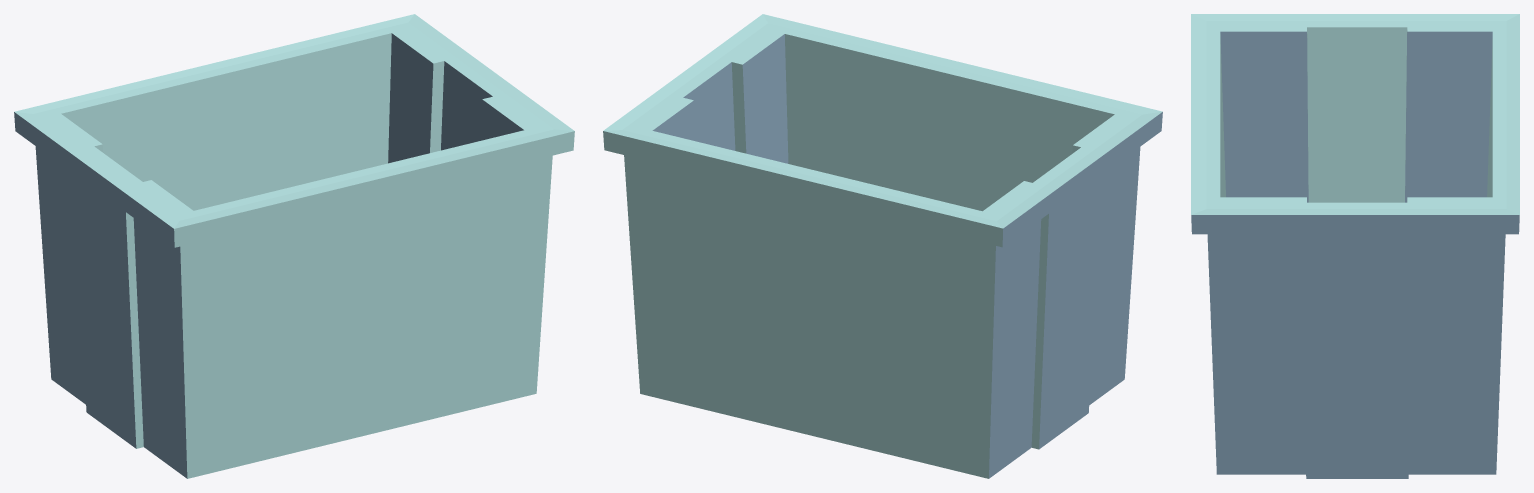
File: Recycle Bin.fbx
The picture shows the model from 3 angles, left to right: view 1: azimuth 30°, elevation 25°; view 2: azimuth 150°, elevation 25°; view 3: azimuth 270°, elevation 25°; orthographic projection. The views are drawn at different scales.
Visible parts, largest first — view 1: Recycle Bin; view 2: Recycle Bin; view 3: Recycle Bin.
Boxes of the visible parts, <box> form: Recycle Bin: <box>14,14,574,478</box>; Recycle Bin: <box>603,14,1162,478</box>; Recycle Bin: <box>1191,14,1519,478</box>.
Size of the model in its own units: 130 by 82.53 by 90.18.
